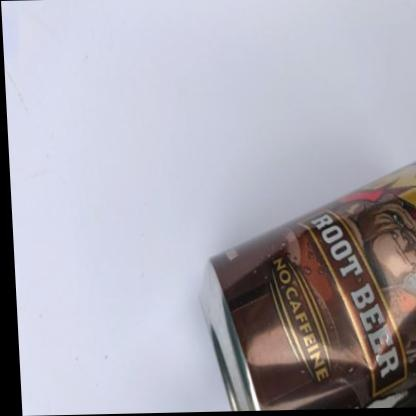trash: (201, 163, 415, 409)
